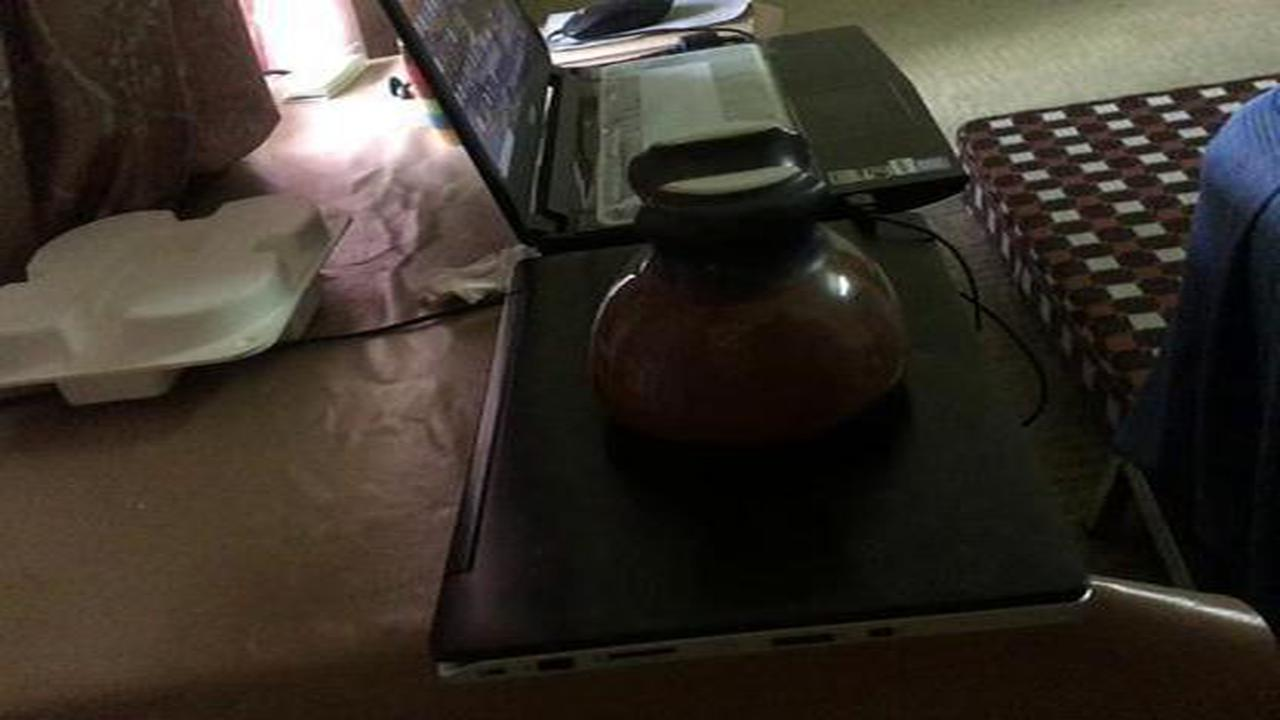insulator_pin: (564, 115, 936, 490)
